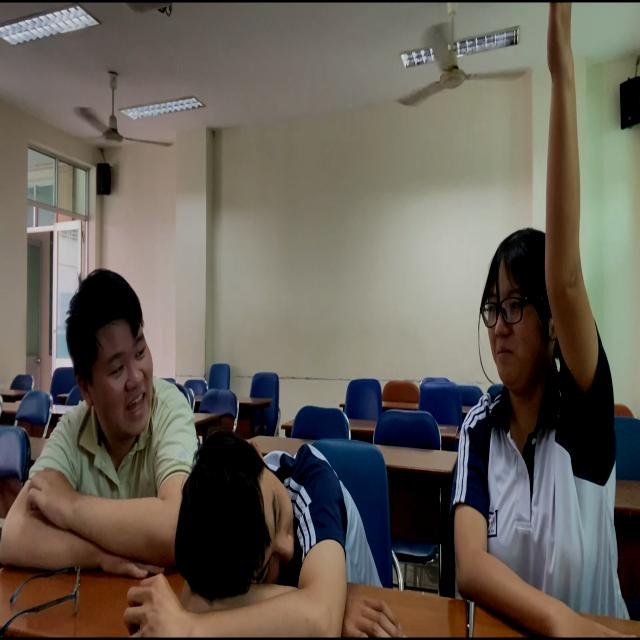raise_hand: (435, 5, 640, 632)
sleep: (171, 427, 390, 640)
